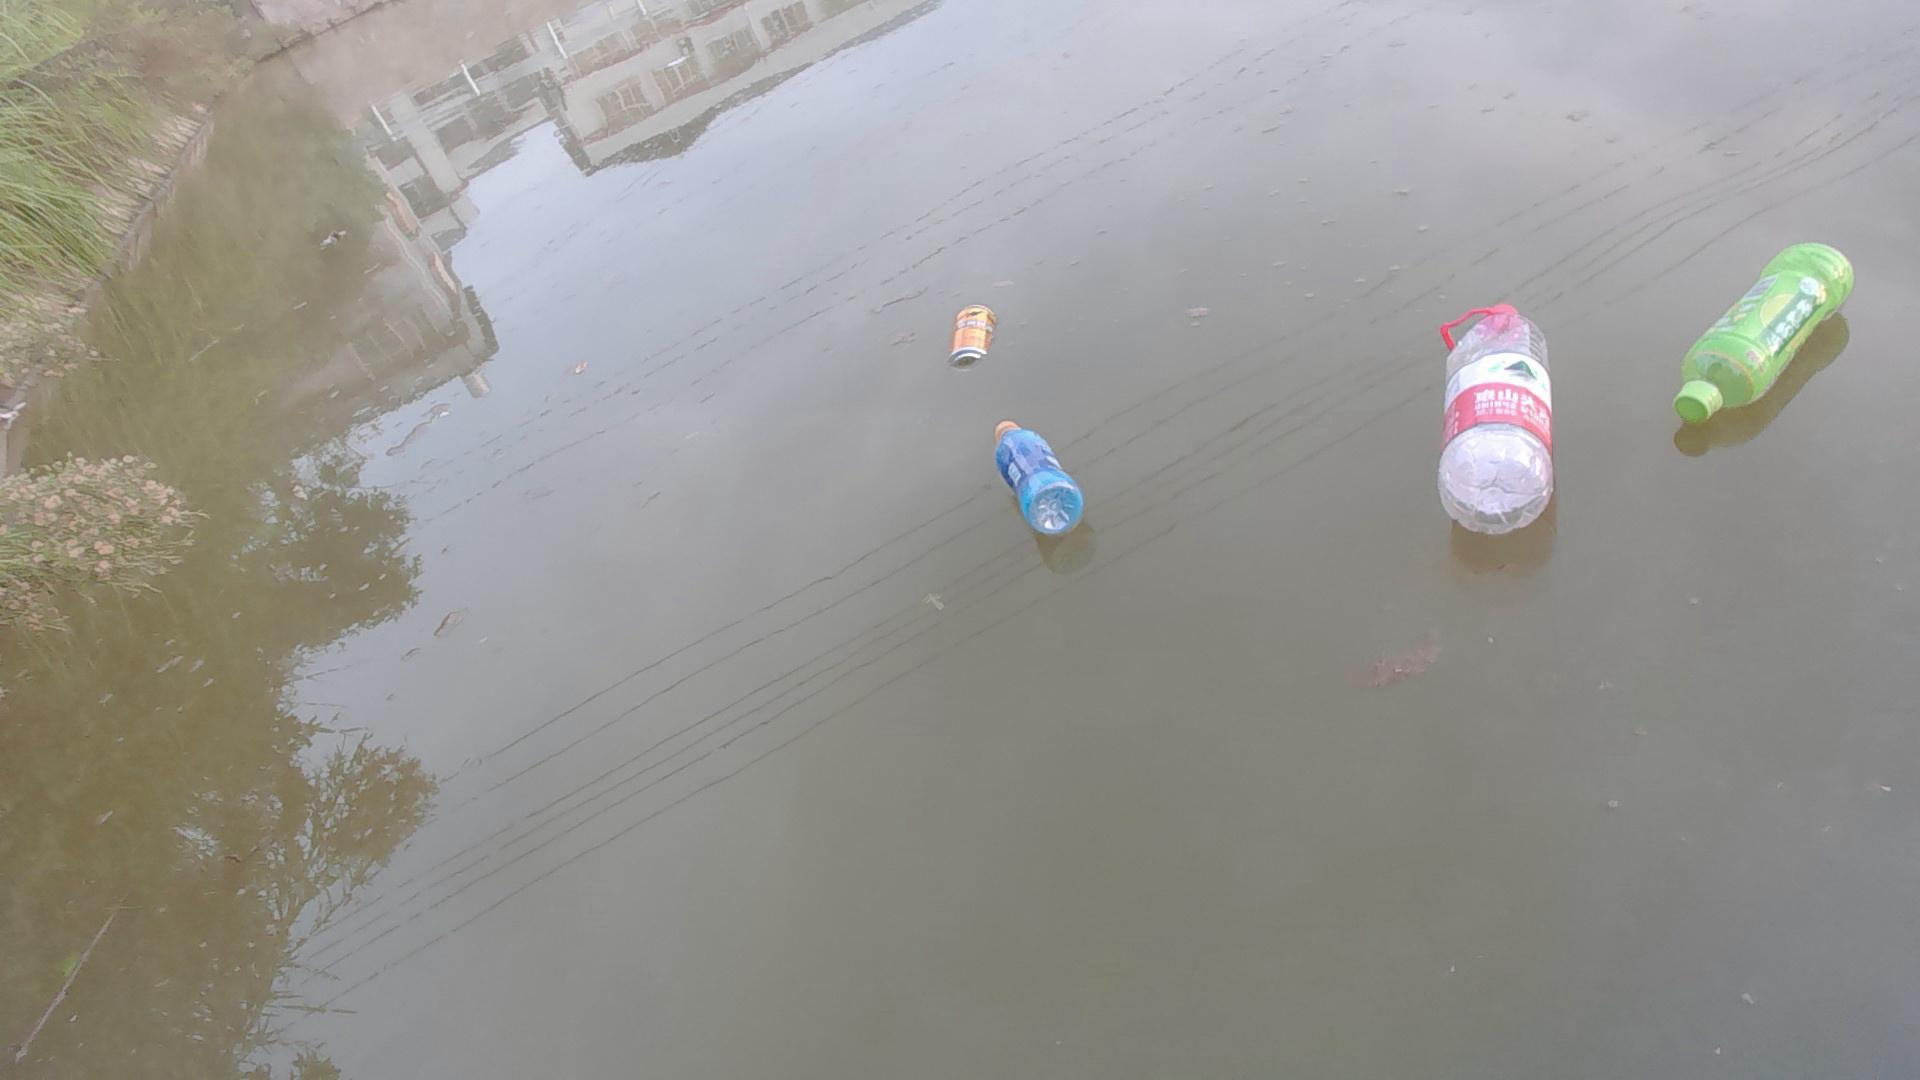Metal: (942, 282, 1007, 371)
Plastic: (1663, 236, 1866, 425), (1425, 291, 1569, 539), (988, 414, 1088, 546)
